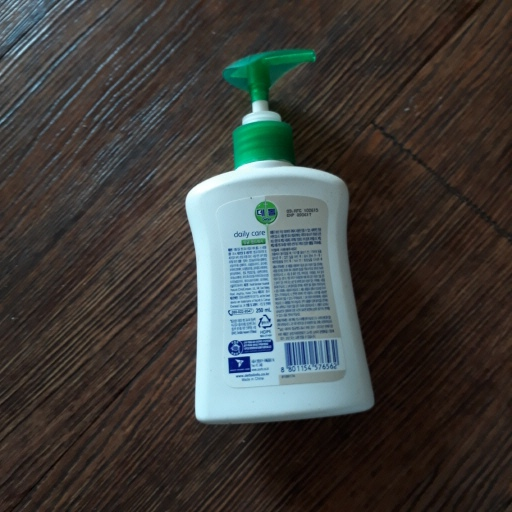Plastic_3: (178, 48, 379, 423)
